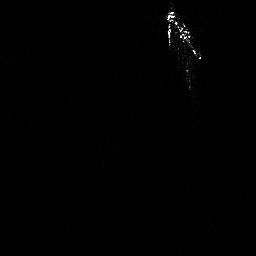ship: (161, 5, 207, 65)
